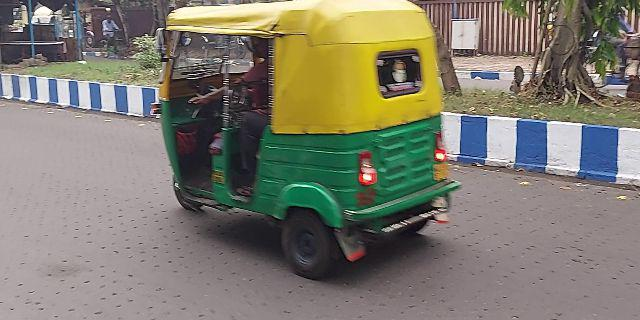Autorickshaw: (158, 8, 462, 280)
